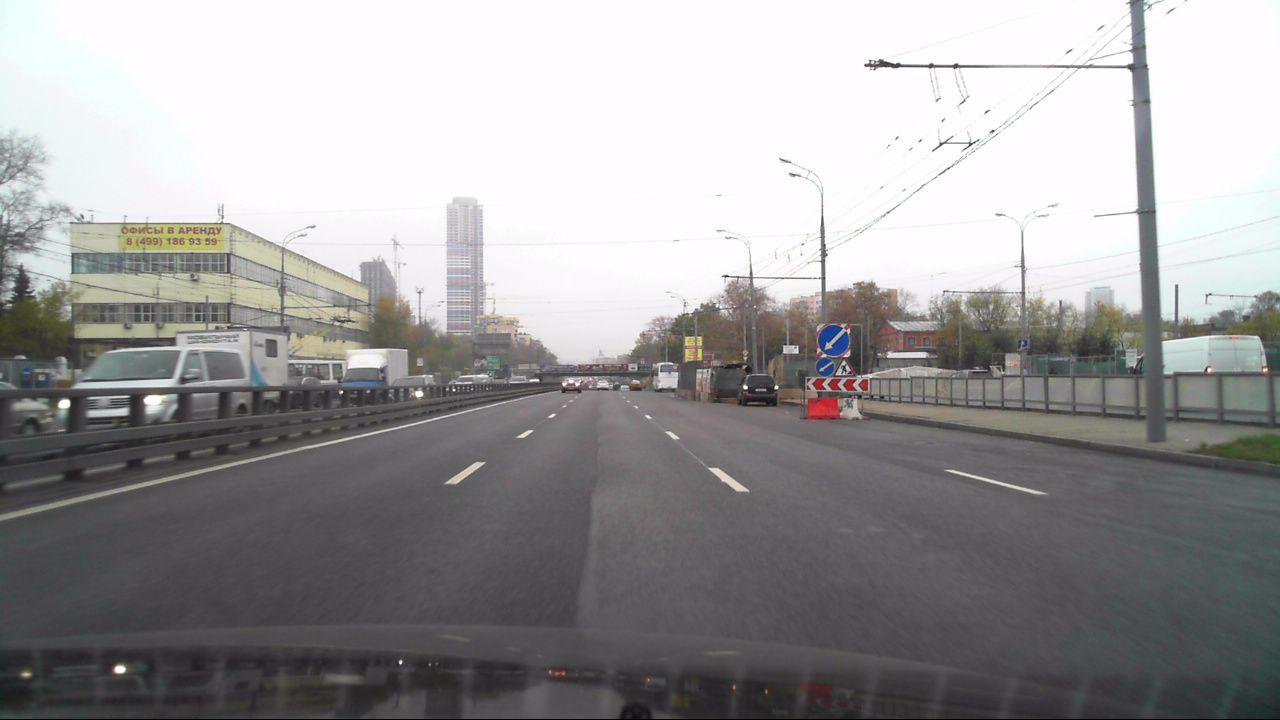road_sign: (804, 377, 872, 393), (817, 325, 850, 357), (834, 357, 858, 376), (815, 357, 836, 377)
